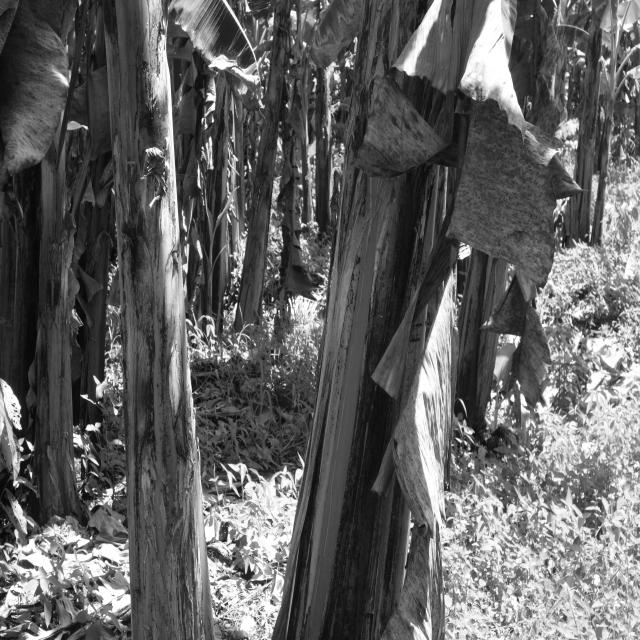Banana-plant: (258, 0, 468, 637), (113, 0, 216, 640), (28, 0, 94, 532), (224, 0, 304, 335), (559, 0, 607, 254)
